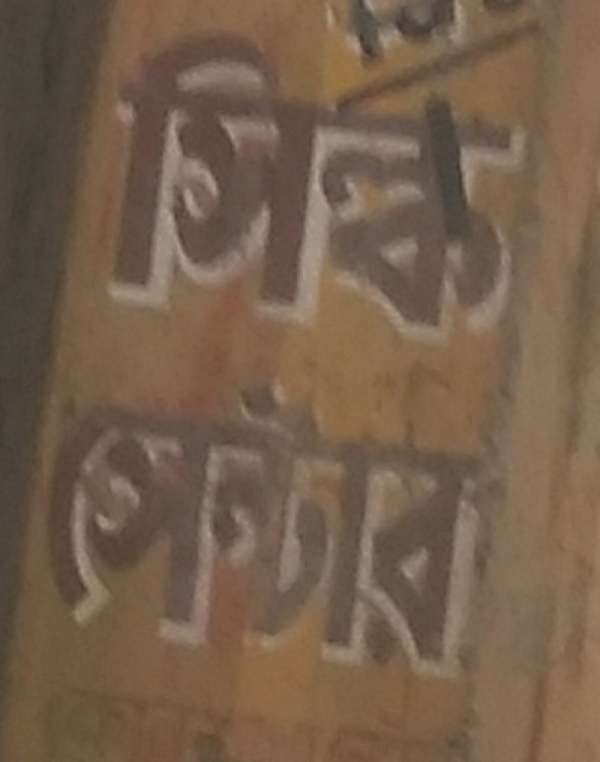text: (81, 346, 96, 692), (97, 346, 112, 692), (113, 346, 128, 692), (129, 346, 144, 692), (145, 346, 160, 692), (161, 346, 176, 692), (177, 346, 192, 692), (193, 346, 208, 692), (209, 346, 224, 692), (225, 346, 240, 692), (241, 346, 256, 692), (257, 346, 272, 692), (273, 346, 288, 692), (289, 346, 304, 692), (305, 346, 320, 692), (321, 346, 336, 692), (337, 346, 352, 692), (353, 346, 368, 692), (369, 346, 384, 692), (385, 346, 400, 692), (401, 346, 416, 692), (417, 346, 432, 692), (433, 346, 448, 692), (449, 346, 464, 692), (465, 346, 480, 692), (481, 346, 496, 692), (113, 16, 128, 352), (129, 16, 144, 352), (145, 16, 160, 352), (161, 16, 176, 352), (177, 16, 192, 352), (193, 16, 208, 352), (209, 16, 224, 352), (225, 16, 240, 352), (241, 16, 256, 352), (257, 16, 272, 352), (273, 16, 288, 352), (289, 16, 304, 352), (305, 16, 320, 352), (321, 16, 336, 352), (337, 16, 352, 352), (353, 16, 368, 352), (369, 16, 384, 352), (385, 16, 400, 352), (401, 16, 416, 352), (417, 16, 432, 352), (433, 16, 448, 352), (449, 16, 464, 352), (465, 16, 480, 352), (481, 16, 496, 352), (497, 16, 512, 352), (513, 16, 528, 352), (67, 346, 80, 692), (529, 16, 534, 352), (49, 656, 64, 759), (65, 656, 80, 759), (81, 656, 96, 759), (97, 656, 112, 759), (113, 656, 128, 759), (129, 656, 144, 759), (145, 656, 160, 759), (161, 656, 176, 759), (177, 656, 192, 759), (193, 656, 208, 759), (209, 656, 224, 759), (225, 656, 240, 759), (241, 656, 256, 759), (257, 656, 272, 759), (273, 656, 288, 759), (289, 656, 304, 759), (305, 656, 320, 759), (321, 656, 336, 759), (337, 656, 352, 759), (353, 656, 368, 759), (369, 656, 384, 759), (385, 656, 400, 759), (401, 656, 416, 759), (417, 656, 432, 759), (433, 656, 448, 759), (449, 656, 464, 759), (465, 656, 480, 759), (34, 656, 48, 759), (497, 346, 501, 692), (481, 656, 494, 759), (337, 2, 352, 74), (353, 2, 368, 74), (369, 2, 384, 74), (385, 2, 400, 74), (401, 2, 416, 74), (417, 2, 432, 74), (433, 2, 448, 74), (449, 2, 464, 74), (465, 2, 480, 74), (481, 2, 496, 74), (497, 2, 512, 74), (513, 2, 528, 74), (529, 2, 544, 74), (545, 2, 560, 74), (110, 16, 112, 352), (327, 2, 336, 74), (561, 2, 570, 74)
